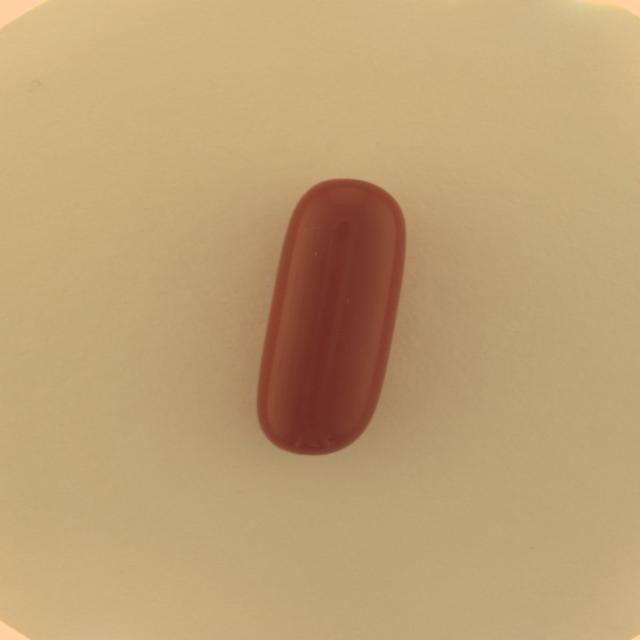Oval: (250, 176, 410, 461)
